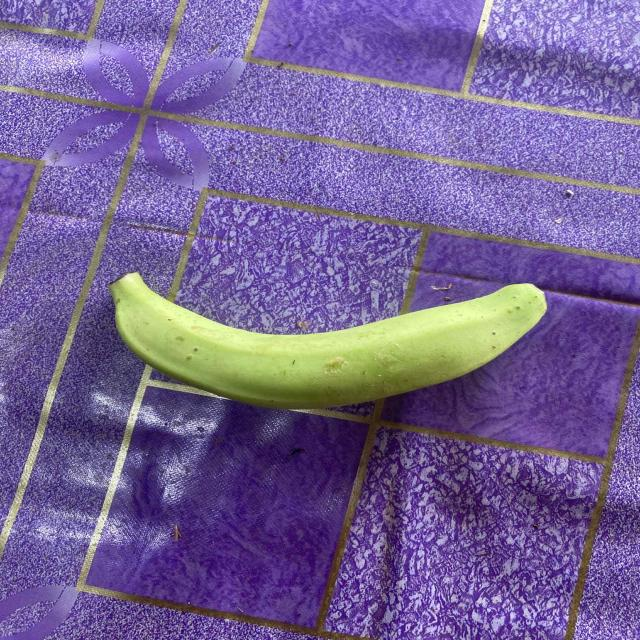Raw: (76, 216, 596, 466)
